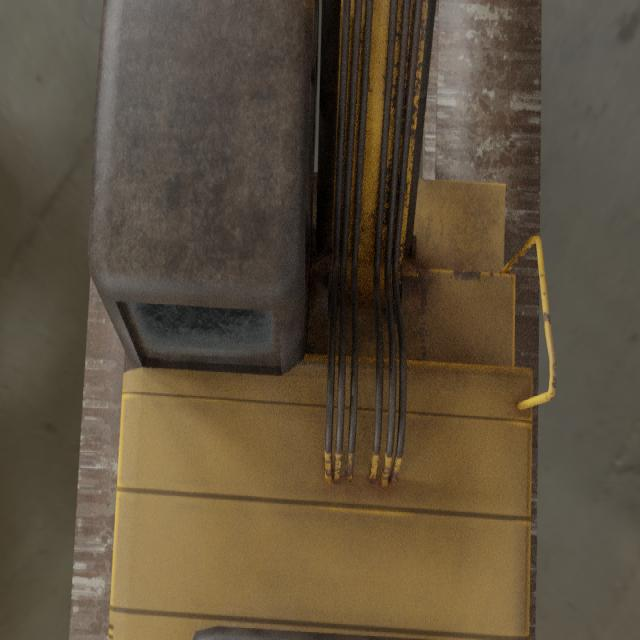excavator: (68, 0, 556, 640)
